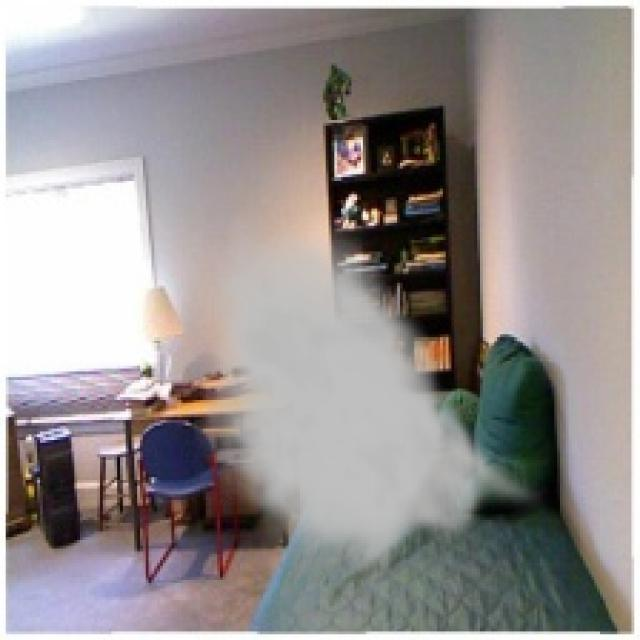Smoke: (194, 208, 552, 583)
